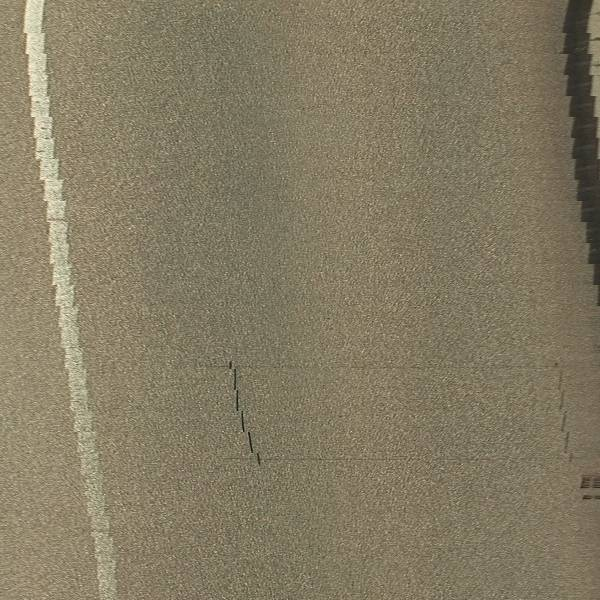road_damage: (212, 351, 586, 475)
